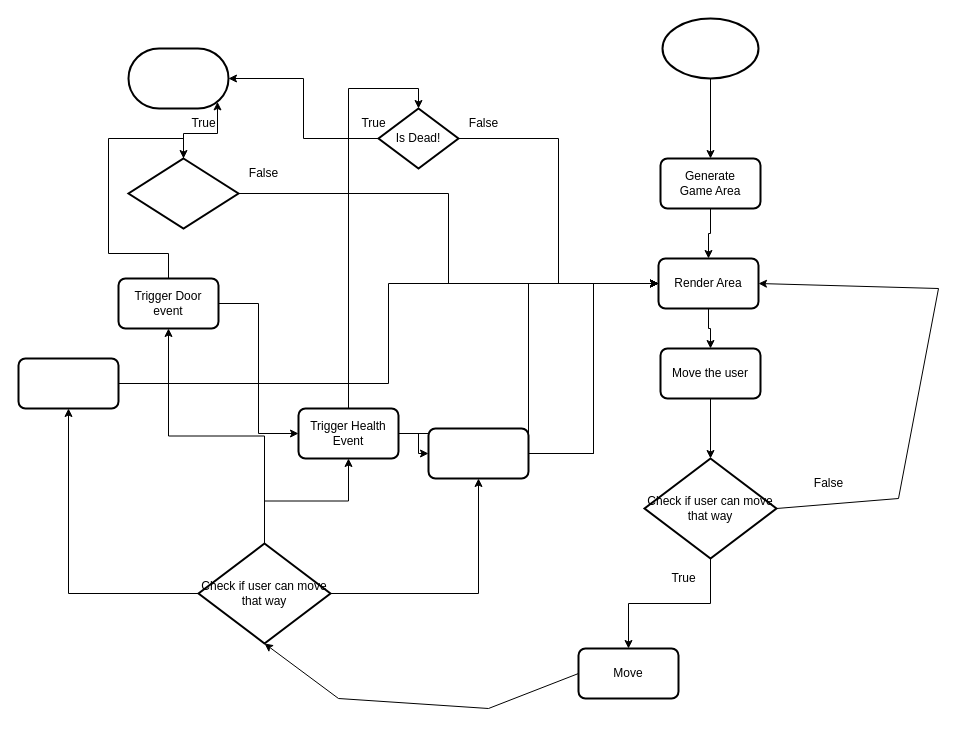
The diagram is 964 pixels wide and 734 high, and some of its shapes have lost their labels. The centre of each missing label's shape, as x and y in pixels:
"Game ends" goes at point 178,78.
"Is unlocking door" goes at point 183,193.
"Start" goes at point 710,48.
"Trigger Key event" goes at point 68,383.
"Trigger Trap event" goes at point 478,453.
